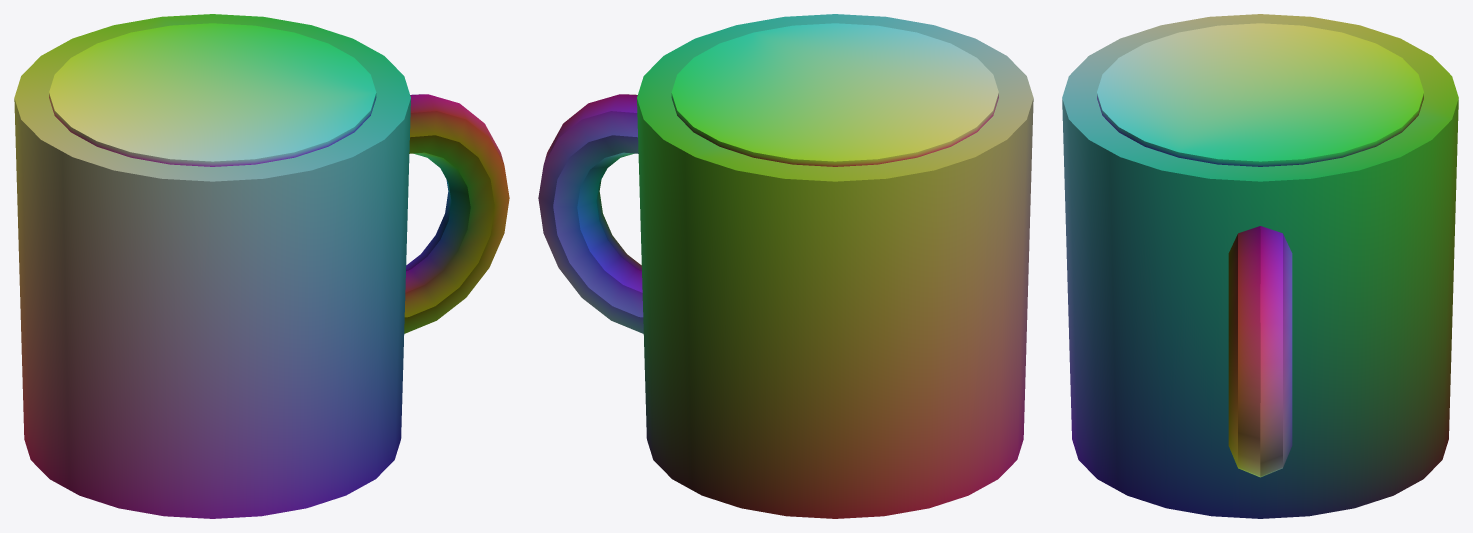
File: mug.fbx
3 views of the same model, side by side, from view 1: azimuth 30°, elevation 25°; view 2: azimuth 150°, elevation 25°; view 3: azimuth 270°, elevation 25° (orthographic).
Parts seen in each view (by area): view 1: mug; view 2: mug; view 3: mug.
Boxes of the visible parts, x1,y1,x2,y2 form: mug: (14, 14, 509, 518); mug: (538, 14, 1033, 518); mug: (1062, 14, 1458, 518).
Size of the model in its own units: 0.542 by 0.386 by 0.4.
